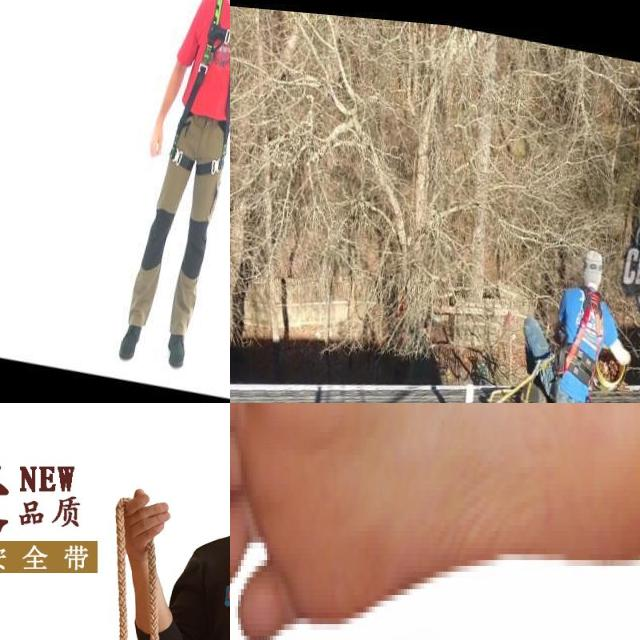Barefoots: (230, 403, 640, 634)
Harness: (182, 0, 230, 125), (565, 290, 604, 373)
